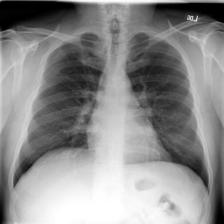normal: (7, 28, 214, 193)
